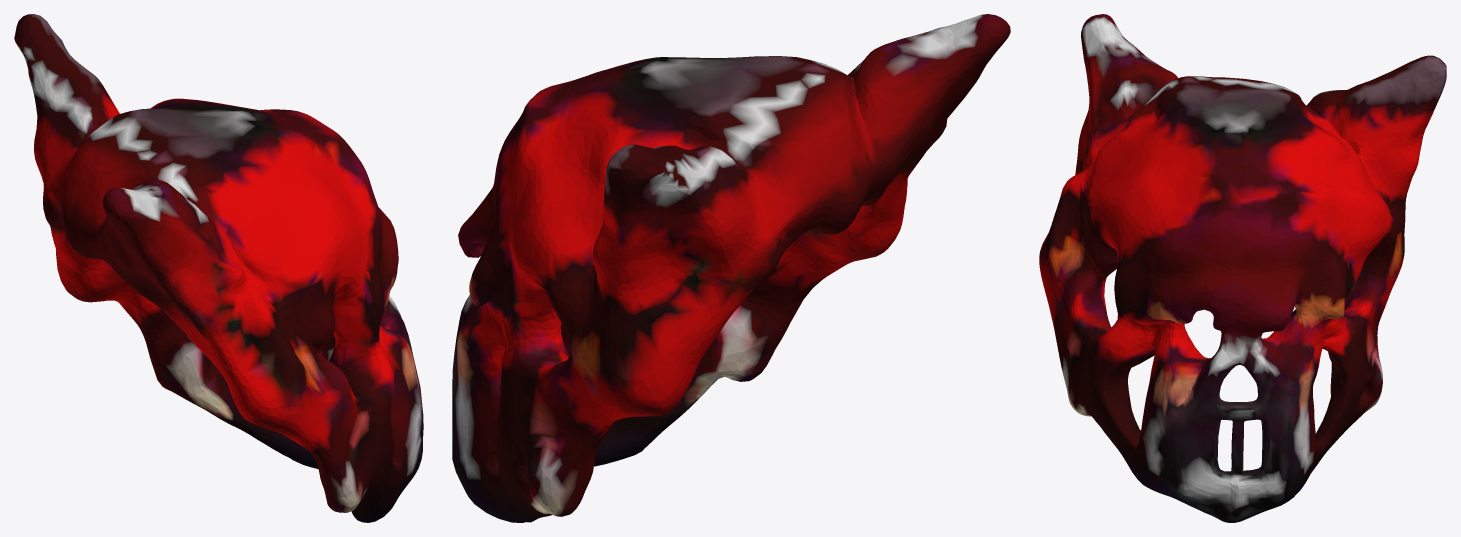
The model's file is demon_head.glb.
3 views of the same model, side by side, from view 1: azimuth 30°, elevation 25°; view 2: azimuth 150°, elevation 25°; view 3: azimuth 270°, elevation 25° (orthographic). The views are drawn at different scales.
Visible parts, largest first — view 1: geometry_0; view 2: geometry_0; view 3: geometry_0.
Part boxes in pixels (bbox=[...]): geometry_0: bbox=[14, 14, 423, 522]; geometry_0: bbox=[452, 14, 1010, 522]; geometry_0: bbox=[1039, 14, 1446, 522].
Bounding box in the file's own units: 0.5938 × 0.6743 × 0.6707.
